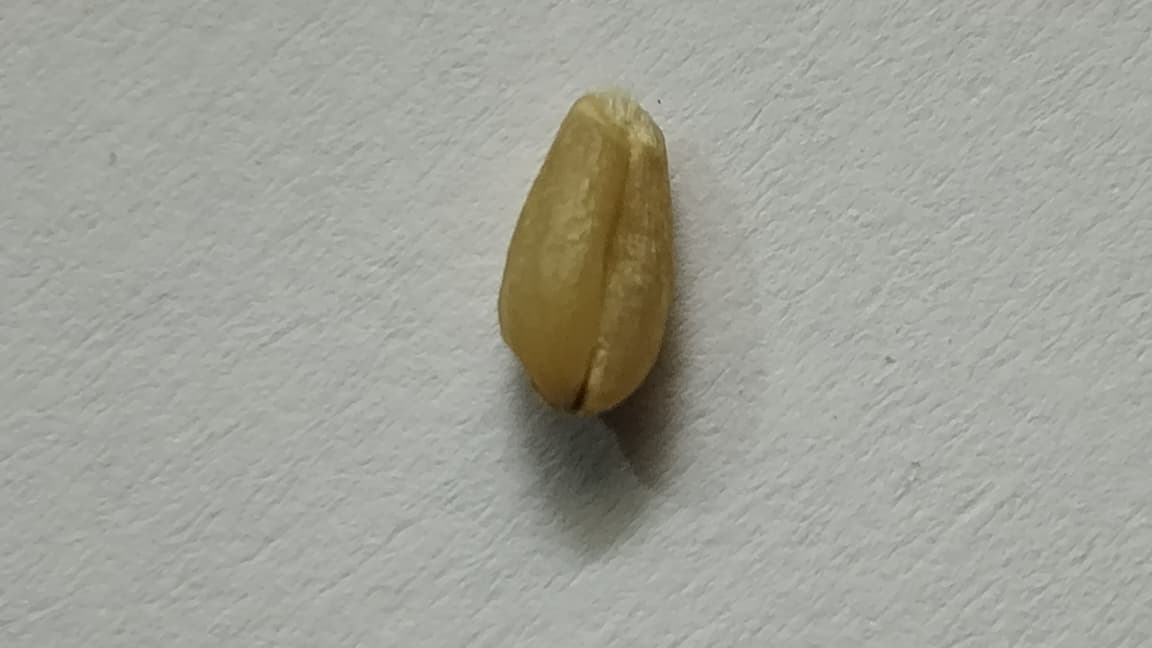healthy: (498, 91, 673, 413)
